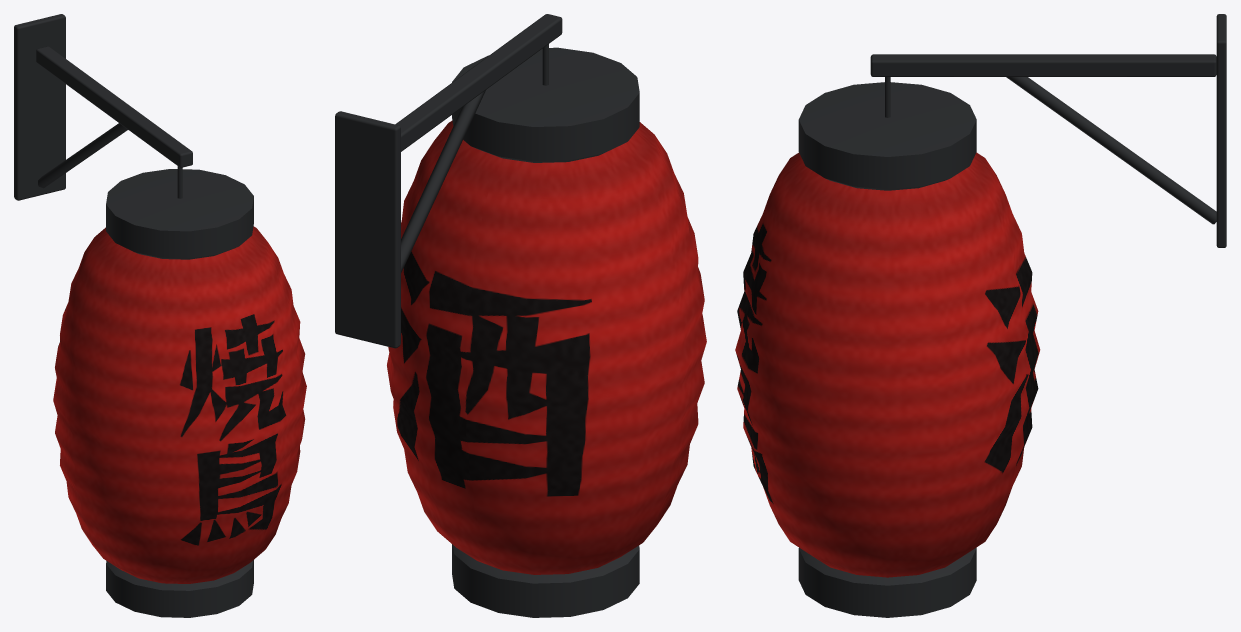
Rendered from akachochin_single.fbx.
3 views of the same model, side by side, from view 1: azimuth 30°, elevation 25°; view 2: azimuth 150°, elevation 25°; view 3: azimuth 270°, elevation 25° (orthographic). The views are drawn at different scales.
Visible parts, largest first — view 1: akachochin_single; view 2: akachochin_single; view 3: akachochin_single.
Boxes of the visible parts, box(x1,y1,x2,y2) form: akachochin_single: box(14, 14, 306, 617); akachochin_single: box(335, 14, 706, 617); akachochin_single: box(735, 14, 1226, 617).
Size of the model in its own units: 0.36 by 0.724 by 0.58.
Materials: 2 (1 with a texture image).
